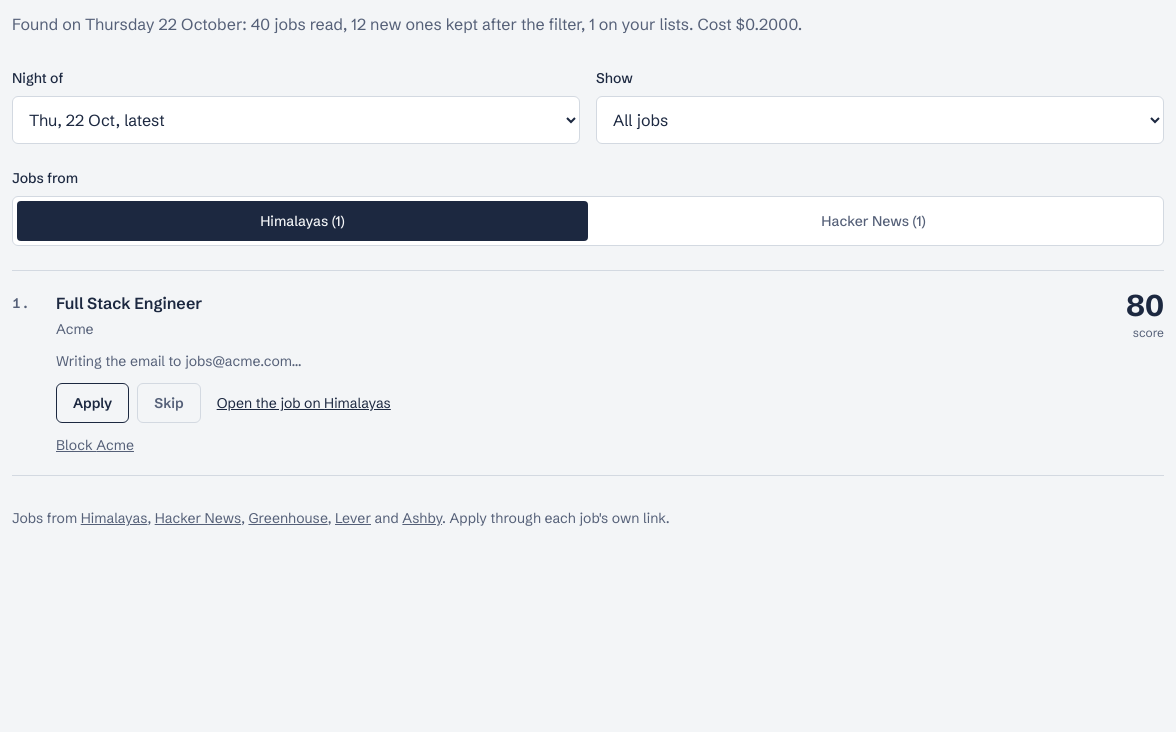
a source with nothing new keeps its last list and says which night it is from
expect the text "These are from" is not shown: met
Click the radio button labelled "Hacker News (1)". click: (874, 221)
box: [821, 212, 926, 230]
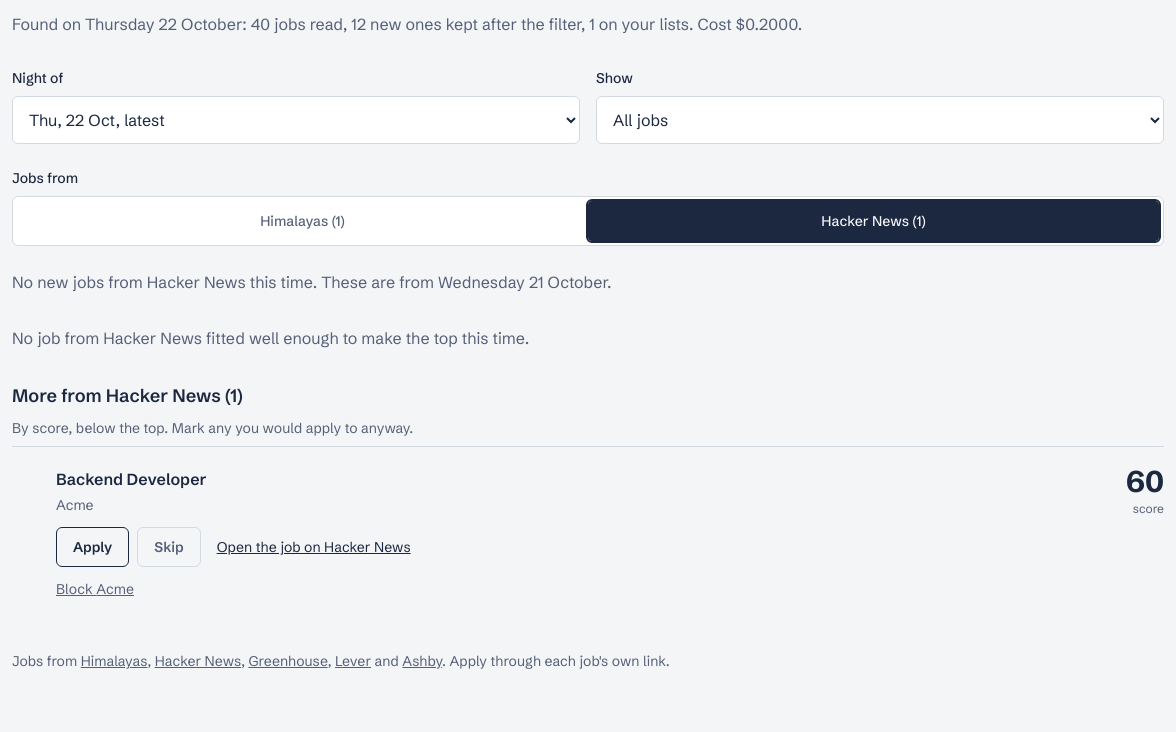
expect the text "No new jobs from Hacker News this time. These are from Wednesday 21 October." is shown: met, box [12, 272, 612, 292]
expect the heading "Backend Developer" is shown: met, box [56, 469, 206, 489]
